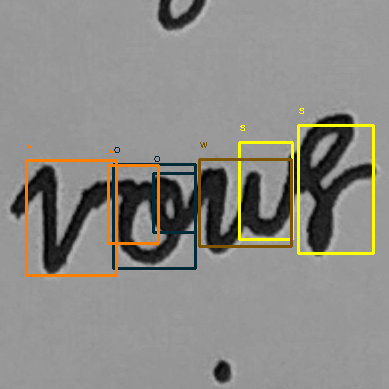o: (112, 170, 194, 269)
s: (289, 108, 380, 262)
v: (29, 158, 108, 279)
w: (196, 150, 303, 257)
